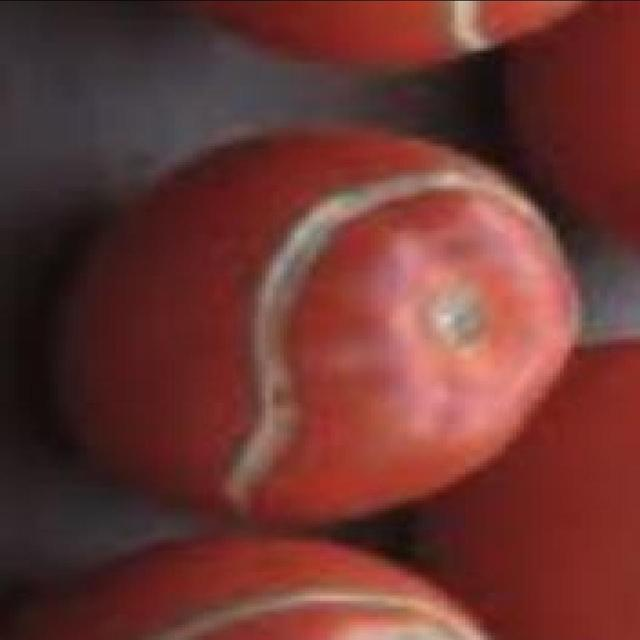Cracking Fruit: (44, 18, 318, 403)
